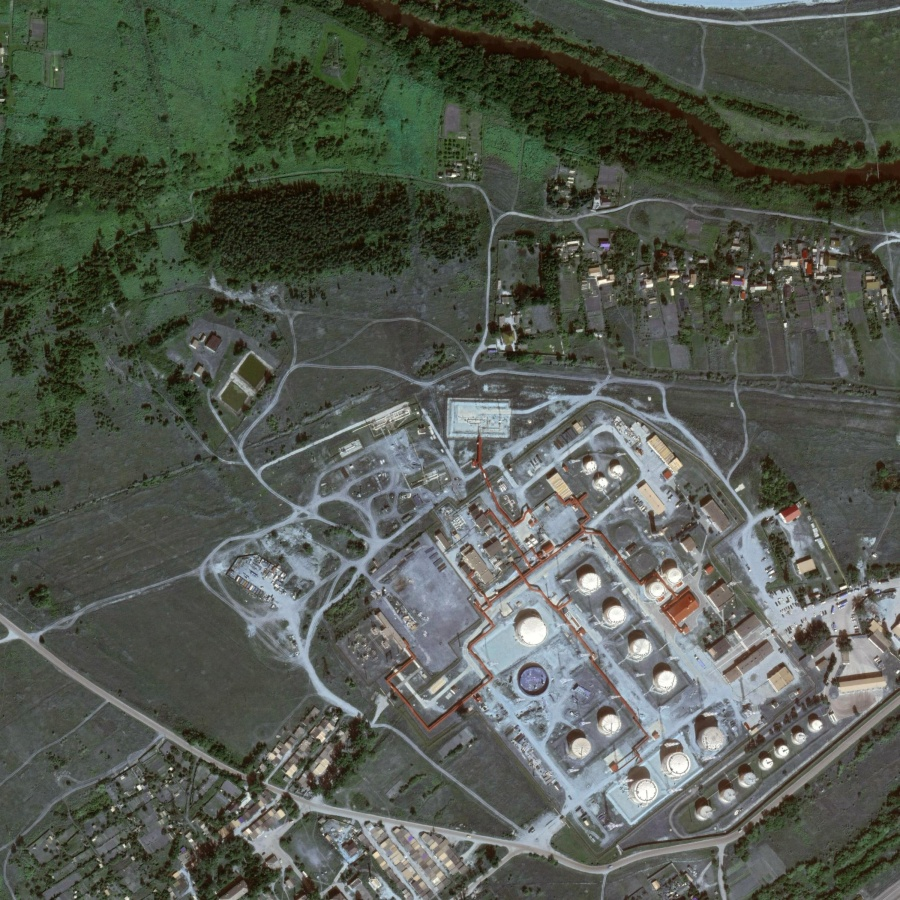PowerPlant: (516, 531, 829, 822)
